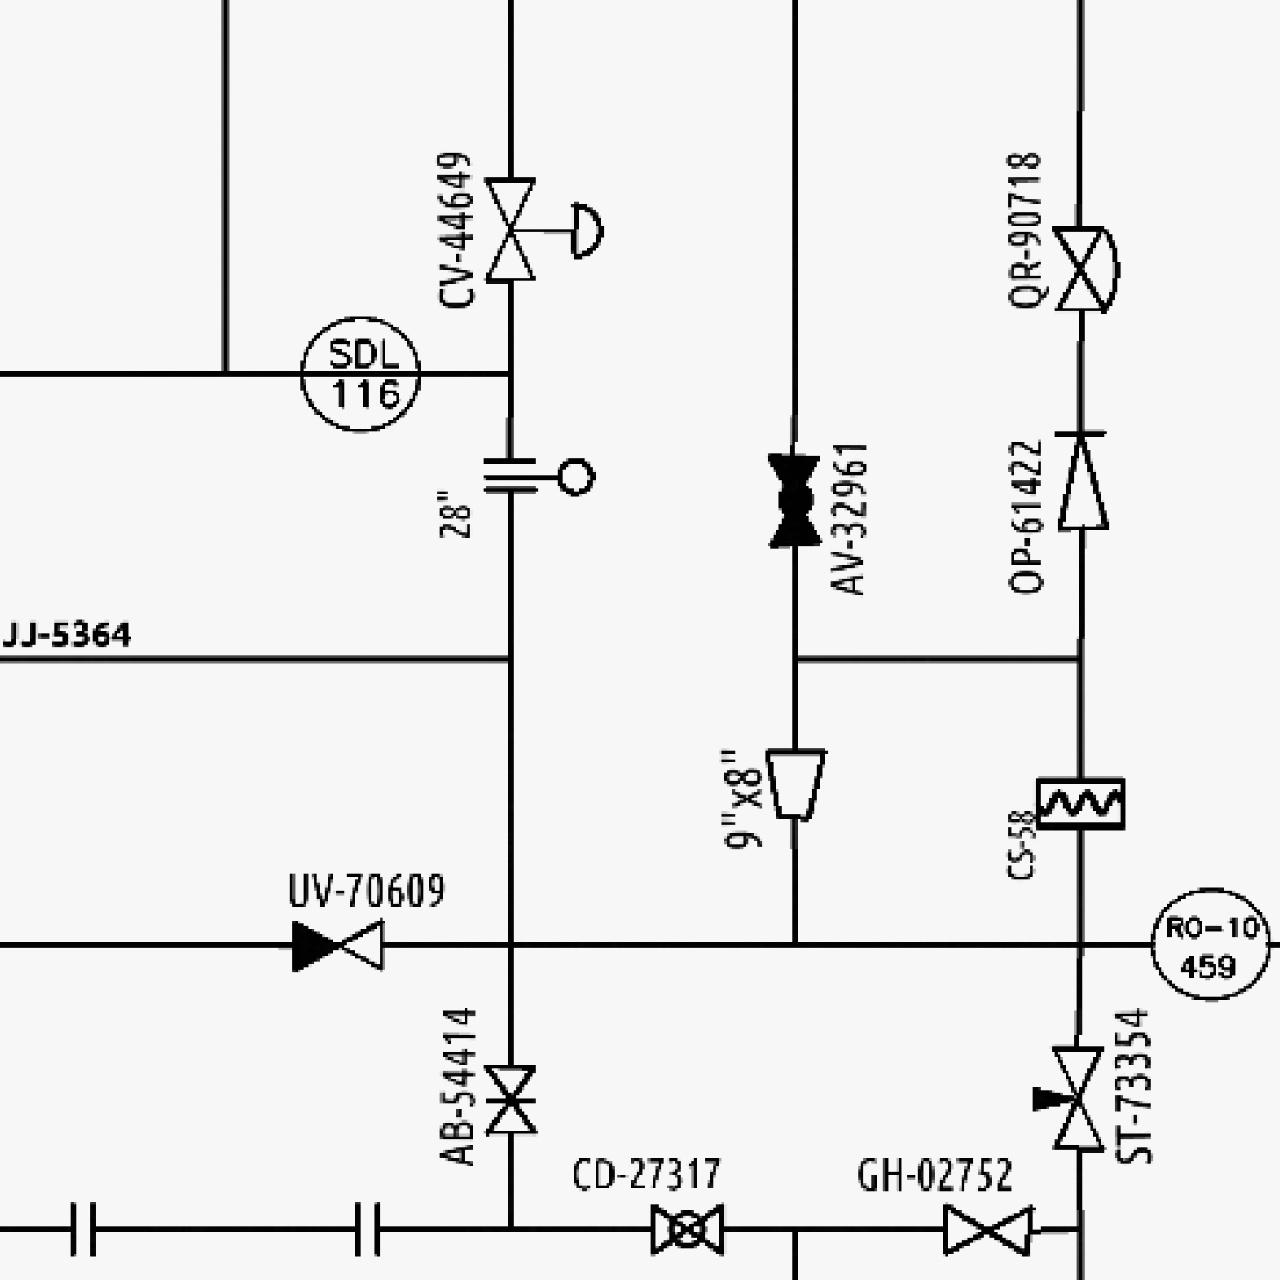Control-Panel: (1145, 878, 1275, 1008)
Half closed valve: (288, 914, 387, 975)
